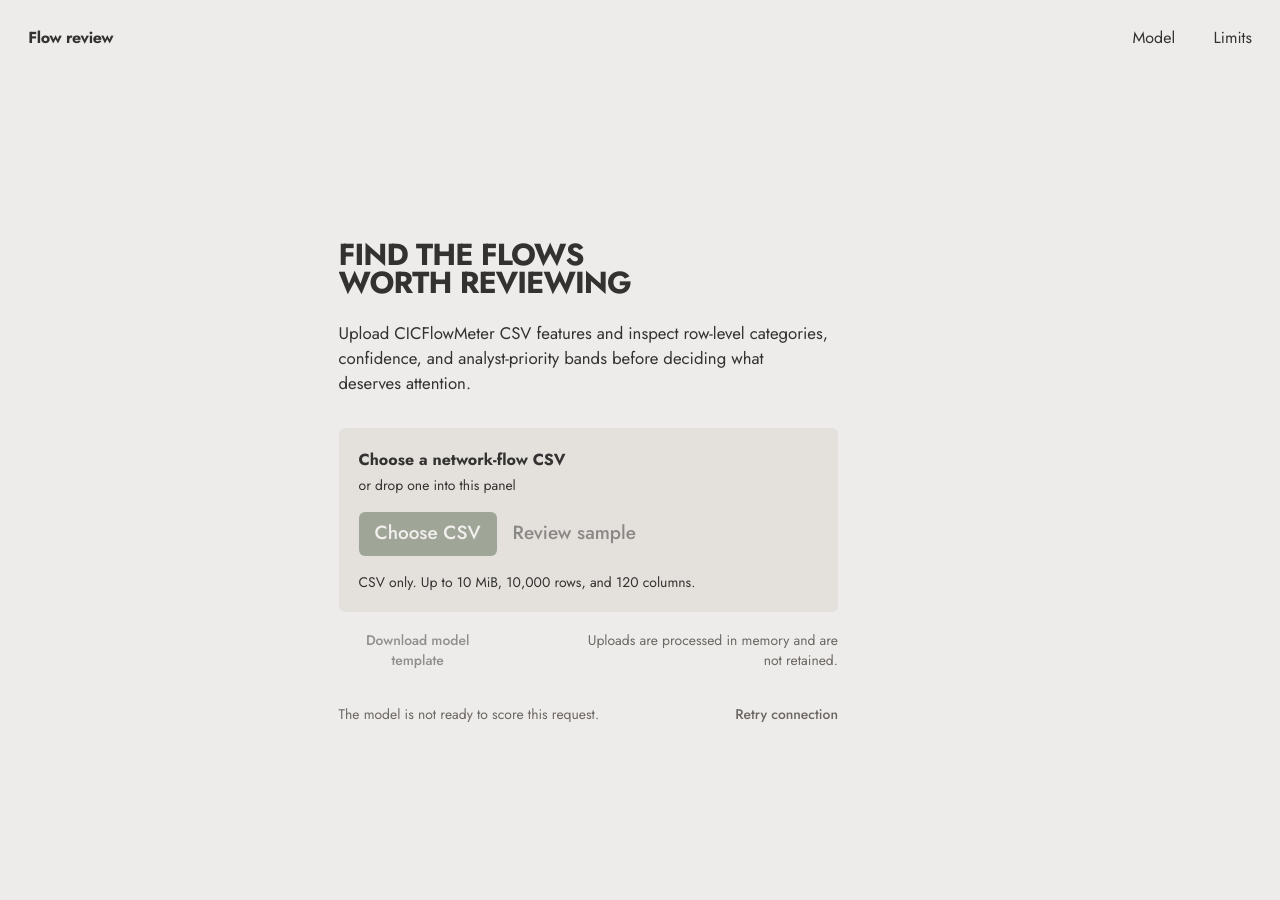
Test: App live API states › reports unavailable readiness and retries the connection
The width and height of the screenshot is (1280, 900).
Expected: the text "The model is not ready to score this request." is shown, left=338, top=704, right=599, bottom=725
Expected: the element named "Traffic CSV" is disabled, left=338, top=428, right=838, bottom=612
Click the button "Retry connection".
click(787, 714)  # box left=735, top=692, right=838, bottom=736
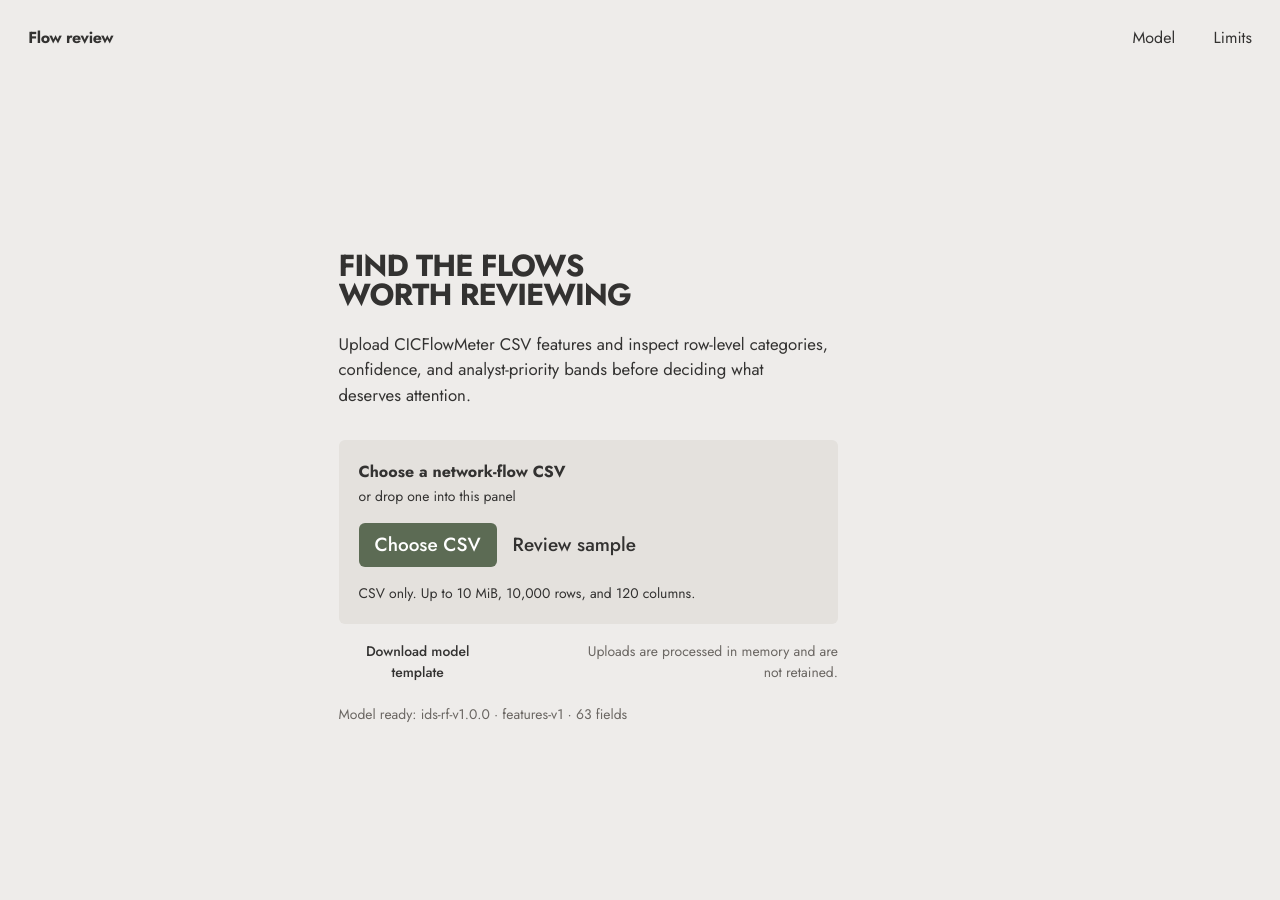
Result: the text "Model ready: ids-rf-v1.0.0 · features-v1 · 63 fields" is shown at left=338, top=704, right=627, bottom=725
